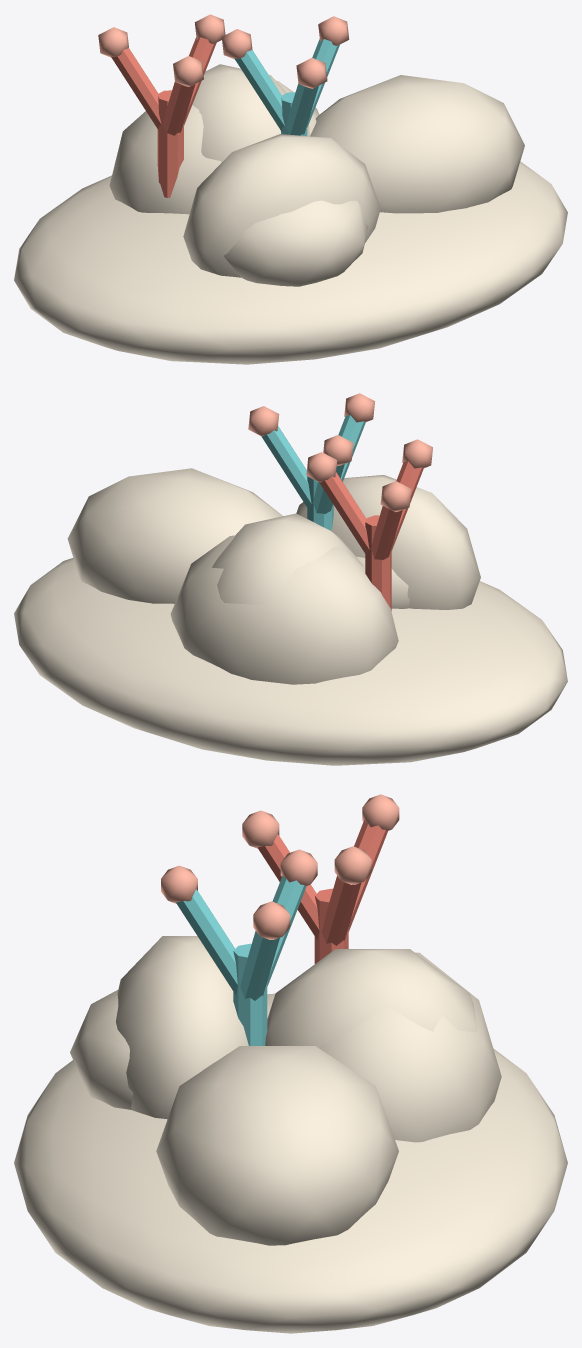
Rendered from reef-03.glb.
3 views of the same model, one above another, from view 1: azimuth 30°, elevation 25°; view 2: azimuth 150°, elevation 25°; view 3: azimuth 270°, elevation 25° (orthographic). The views are drawn at different scales.
Visible parts, largest first — view 1: Sculpted reef base, Reef rock.002, Reef rock.001, Reef rock.004, Reef rock.003, Reef rock, Coral stem, Coral crown.004, Coral crown.001, Coral crown.002, Coral crown.005, Coral polyp.002 (+7 smaller); view 2: Sculpted reef base, Reef rock.003, Reef rock.002, Reef rock.001, Reef rock, Coral crown, Coral crown.003, Coral stem, Coral crown.001, Coral polyp.001, Coral polyp.003, Coral polyp (+8 smaller); view 3: Sculpted reef base, Reef rock.002, Reef rock.001, Reef rock.003, Reef rock, Reef rock.004, Coral crown.005, Coral stem.001, Coral crown, Coral crown.003, Coral crown.002, Coral polyp (+8 smaller).
Boxes of the visible parts, x1,y1,x2,y2 form: Sculpted reef base: (14, 161, 567, 364); Reef rock.002: (310, 75, 524, 213); Reef rock.001: (183, 134, 380, 277); Reef rock.004: (223, 200, 368, 286); Reef rock.003: (109, 80, 319, 214); Reef rock: (192, 64, 309, 162); Coral stem: (157, 90, 183, 197); Coral crown.004: (234, 50, 284, 131); Coral crown.001: (111, 48, 161, 129); Coral crown.002: (162, 82, 195, 135); Coral crown.005: (286, 84, 318, 135); Coral polyp.002: (173, 56, 203, 86); Sculpted reef base: (14, 558, 567, 765); Reef rock.003: (170, 535, 398, 684); Reef rock.002: (67, 468, 283, 603); Reef rock.001: (296, 475, 480, 609); Reef rock: (212, 513, 363, 604); Coral crown: (319, 472, 369, 555); Coral crown.003: (261, 426, 311, 509); Coral stem: (365, 515, 391, 611); Coral crown.001: (370, 506, 402, 560); Coral polyp.001: (380, 481, 411, 512); Coral polyp.003: (248, 406, 279, 436); Coral polyp: (306, 452, 337, 482); Sculpted reef base: (14, 993, 567, 1333); Reef rock.002: (156, 1046, 398, 1245); Reef rock.001: (116, 936, 248, 1119); Reef rock.003: (319, 952, 501, 1142); Reef rock: (265, 949, 477, 1047); Reef rock.004: (70, 990, 270, 1109); Coral crown.005: (176, 889, 237, 994); Coral stem.001: (233, 943, 267, 1045); Coral crown: (322, 875, 361, 945); Coral crown.003: (240, 931, 279, 1000); Coral crown.002: (257, 834, 319, 939); Coral polyp: (334, 846, 371, 884).
Bounding box in the file's own units: 2.7 × 1.45 × 2.04.
